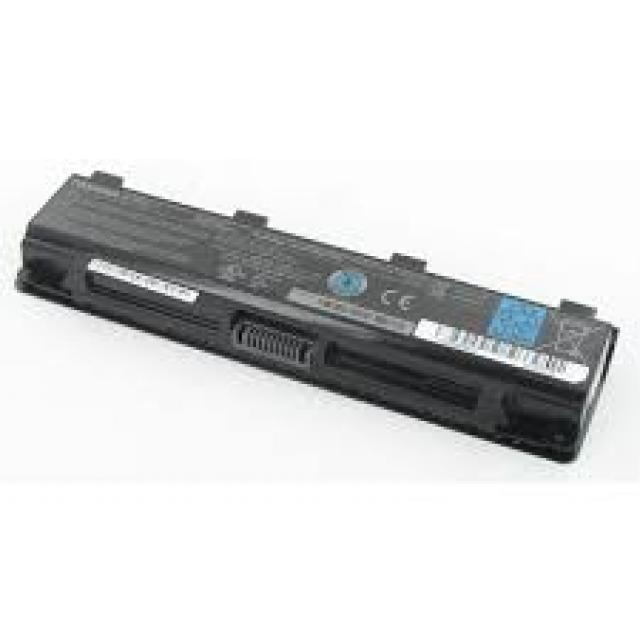non-organic waste: (14, 166, 622, 461)
